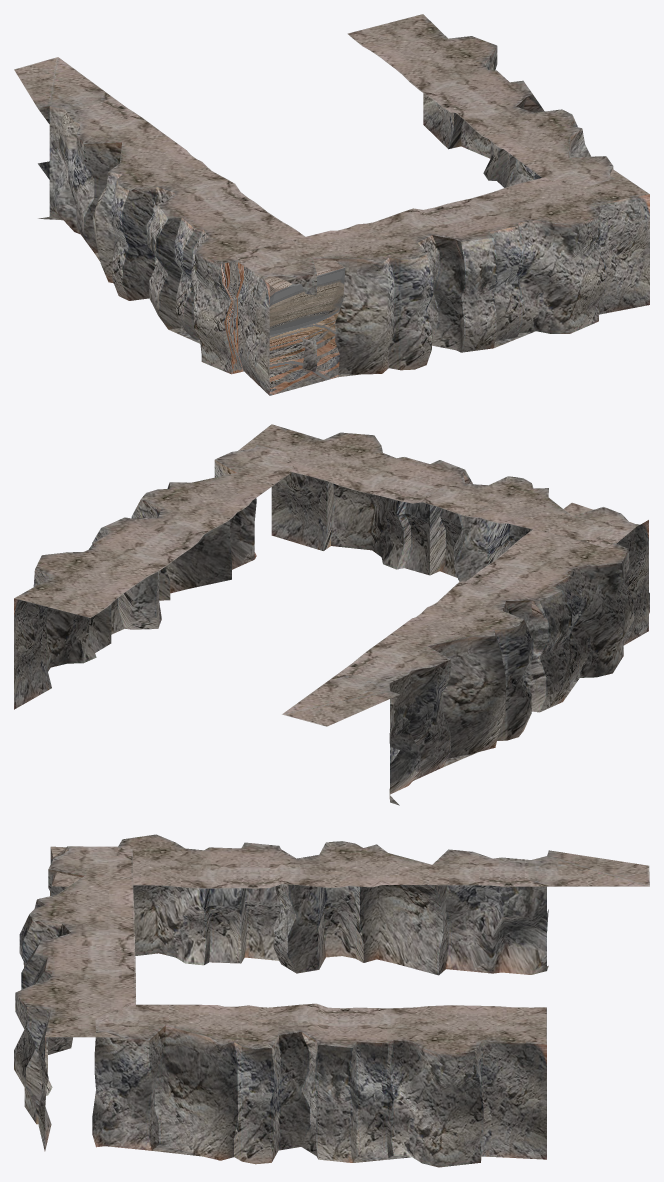
The model's file is Canyon2.FBX.
The picture shows the model from 3 angles, top to bottom: view 1: azimuth 30°, elevation 25°; view 2: azimuth 150°, elevation 25°; view 3: azimuth 270°, elevation 25°; orthographic projection. The views are drawn at different scales.
Visible parts, largest first — view 1: wall005; view 2: wall005; view 3: wall005.
Part boxes in pixels (x1=…): wall005: x1=14, y1=14, x2=649, y2=395; wall005: x1=14, y1=424, x2=649, y2=805; wall005: x1=14, y1=834, x2=649, y2=1167.
Bounding box in the file's own units: 1516 × 370 × 1818.
